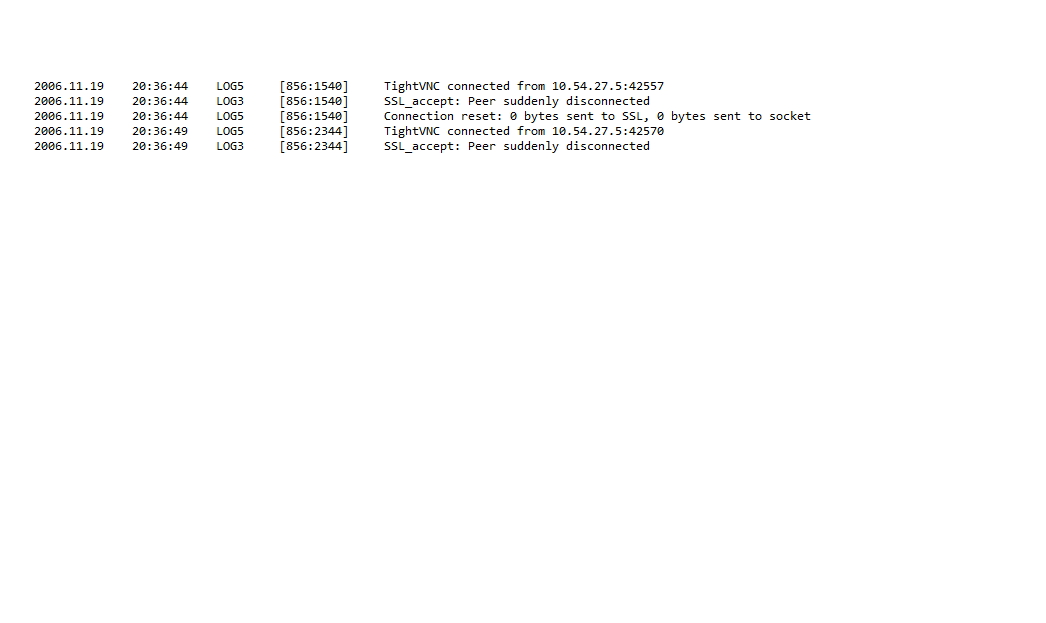table: (32, 74, 824, 159)
